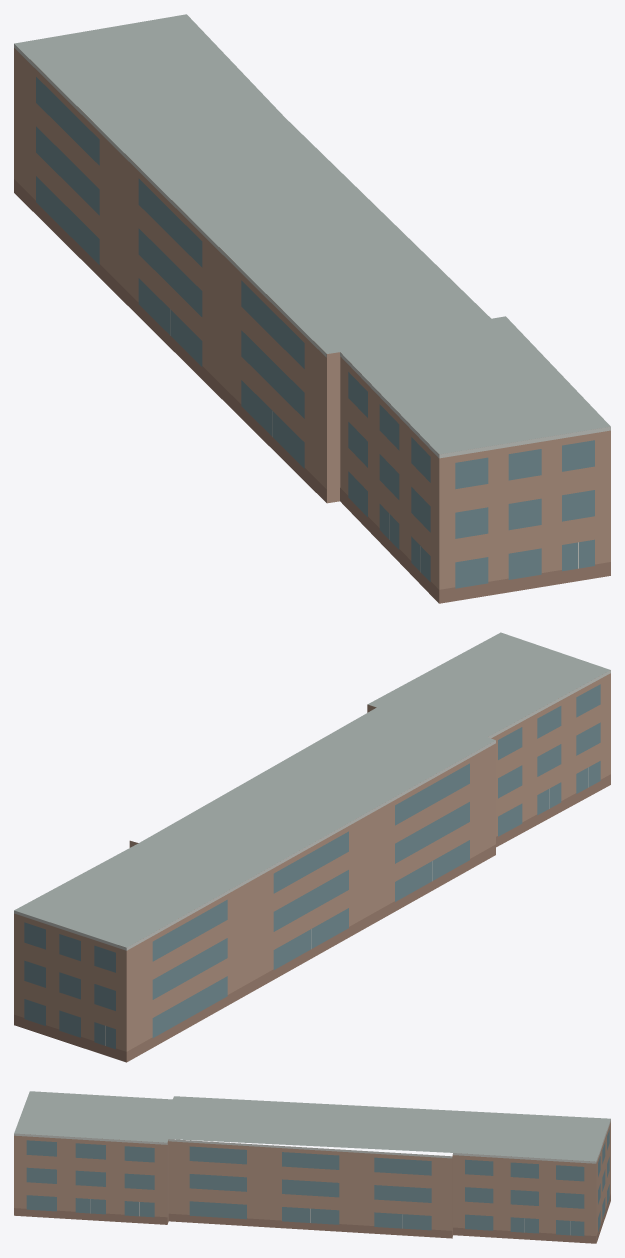
The model's file is survey-upis-32558364.glb.
3 renders of one model, top to bottom at view 1: azimuth 30°, elevation 25°; view 2: azimuth 150°, elevation 25°; view 3: azimuth 270°, elevation 25°, orthographic. The views are drawn at different scales.
Parts seen in each view (by area): view 1: survey-upis-32558364.tmp; view 2: survey-upis-32558364.tmp; view 3: survey-upis-32558364.tmp.
Part boxes in pixels (bbox=[...]): survey-upis-32558364.tmp: bbox=[14, 14, 610, 603]; survey-upis-32558364.tmp: bbox=[14, 632, 610, 1062]; survey-upis-32558364.tmp: bbox=[14, 1091, 610, 1243].
Size of the model in its own units: 16.81 by 9.15 by 60.21.
